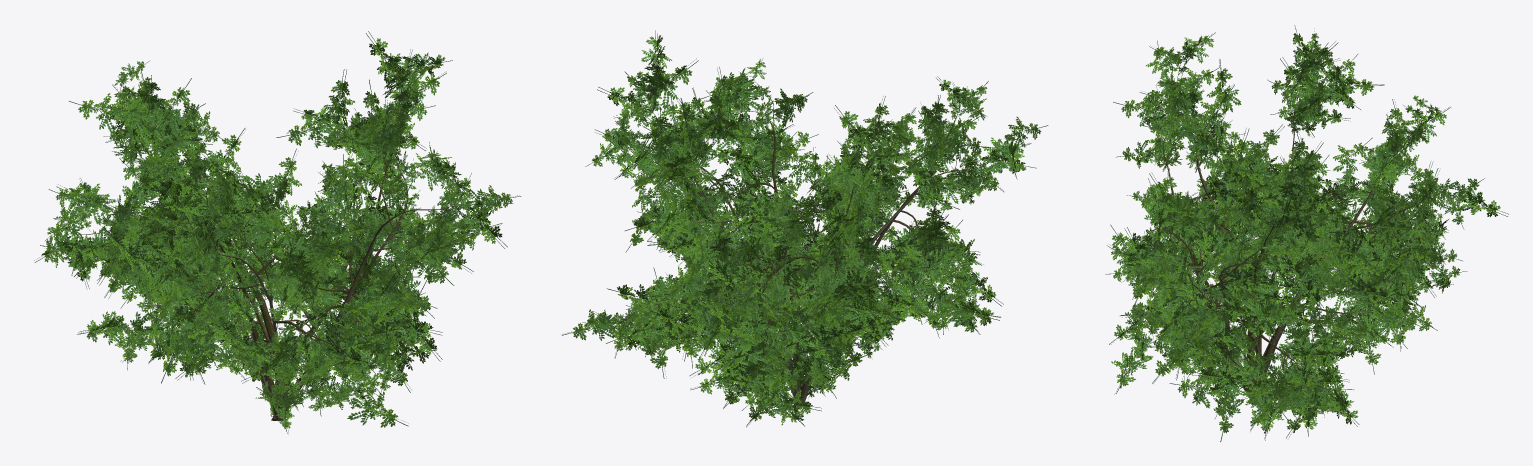
File: bushA.glb
The picture shows the model from 3 angles, left to right: view 1: azimuth 30°, elevation 25°; view 2: azimuth 150°, elevation 25°; view 3: azimuth 270°, elevation 25°; orthographic projection. The views are drawn at different scales.
Visible parts, largest first — view 1: bushA; view 2: bushA; view 3: bushA.
Boxes of the visible parts, left/top/right/bottom form: bushA: left=34, top=31, right=521, bottom=434; bushA: left=562, top=30, right=1048, bottom=427; bushA: left=1105, top=25, right=1508, bottom=441.
Size of the model in its own units: 2.07 by 1.7 by 1.99.
Materials: 2 (2 with a texture image).
